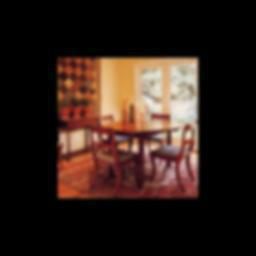Matera: (80, 93, 96, 117), (70, 95, 82, 118), (60, 96, 72, 119)
Puerta: (136, 66, 198, 149)
